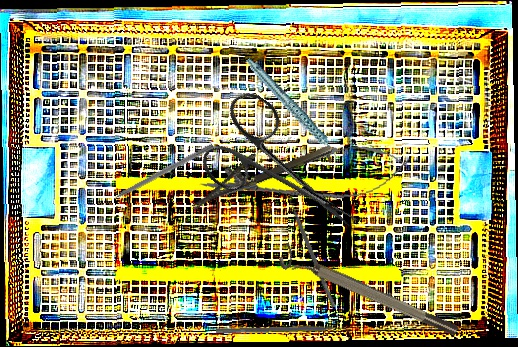Fixation Ring: (276, 242, 461, 347)
Handpiece: (245, 43, 340, 176)
Hook Surgical: (100, 142, 215, 207)
Iris Scissors: (189, 85, 385, 263)
Micro Scissor: (195, 137, 412, 219)
Needle Holder: (182, 125, 334, 211)
Spatula Surgical: (284, 193, 342, 309), (215, 323, 352, 340)
